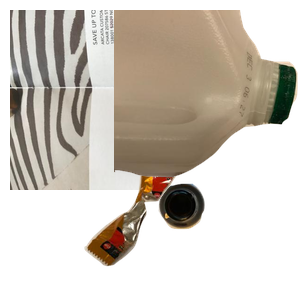glass: (156, 181, 300, 300)
paper: (10, 10, 250, 190)
plastic: (114, 10, 300, 179)
trash: (82, 151, 260, 300)
